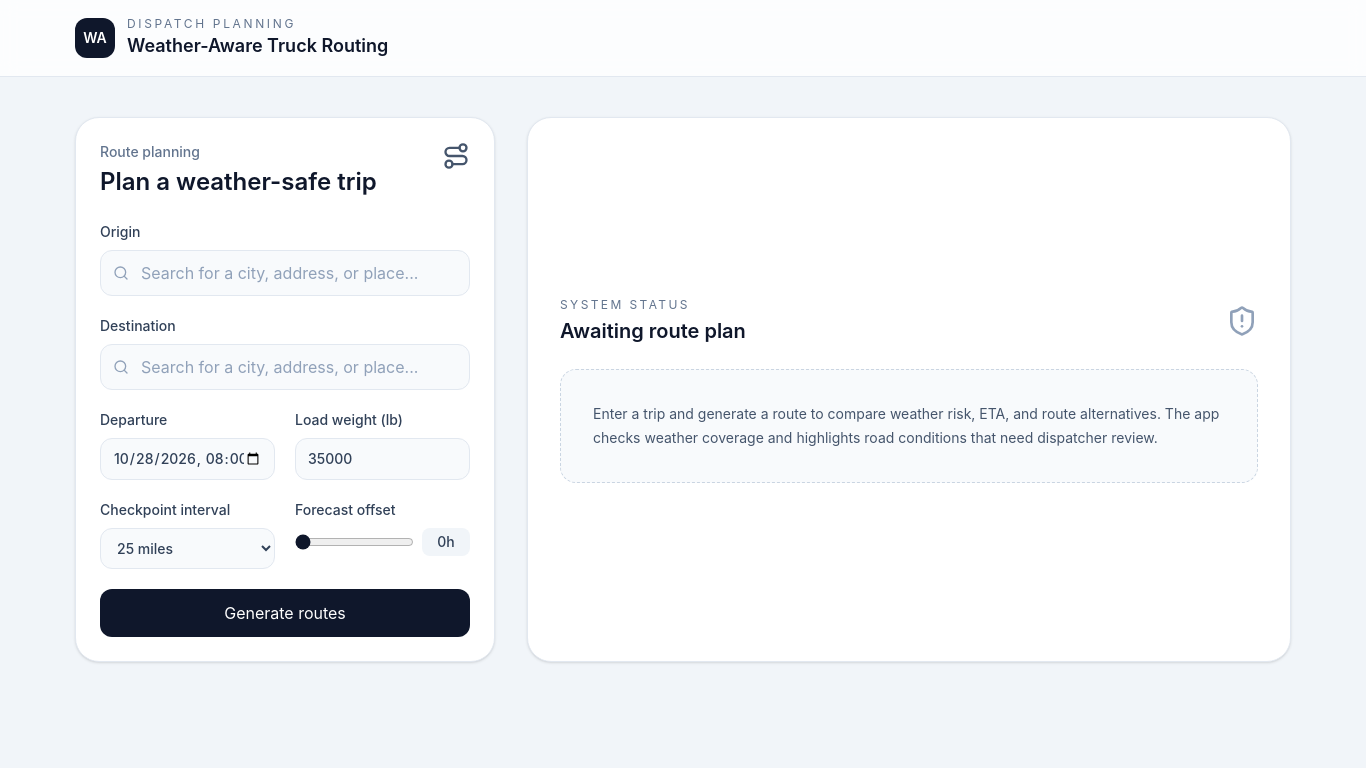
Scenario: App › requires a new suggestion after the selected location text is edited
Type "Dallas" into the dropdown labelled "Origin" at (285, 273), box [101,251,469,295]
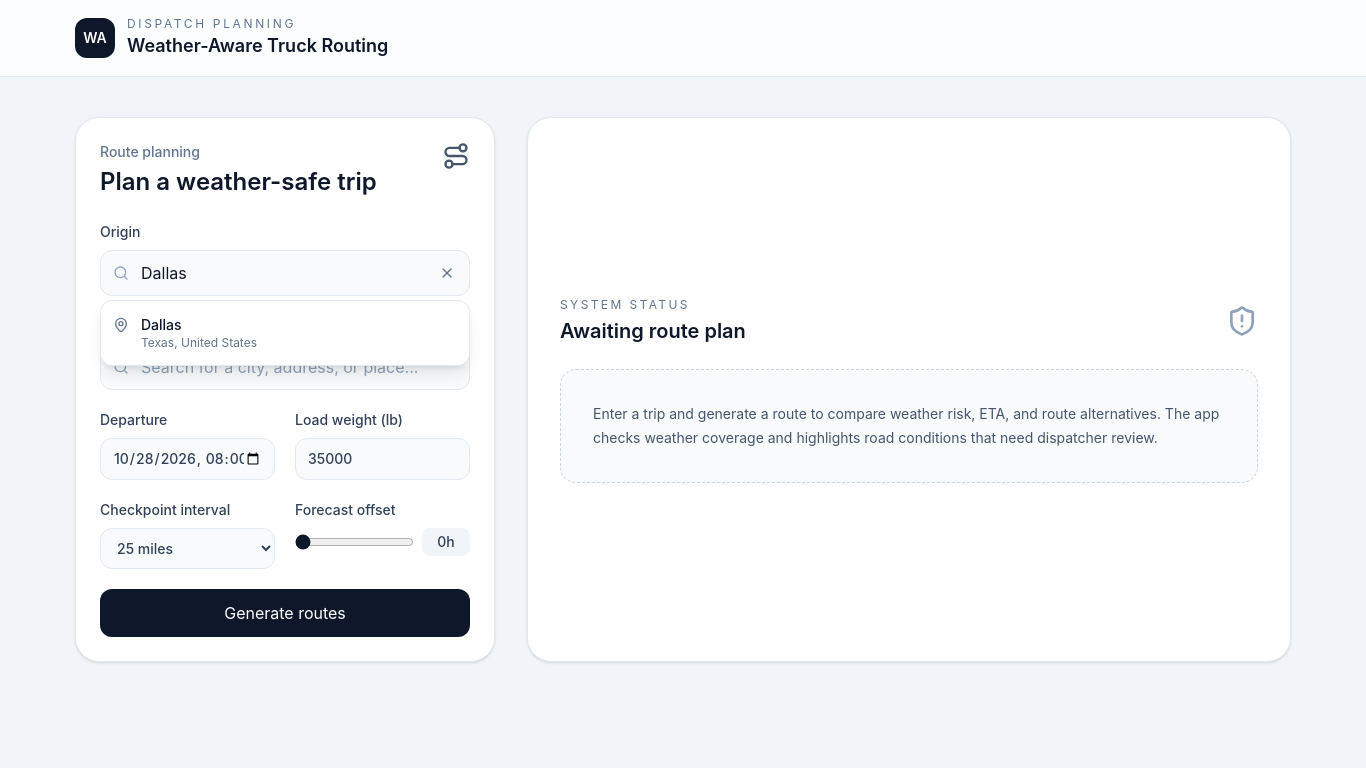
Click the option "Dallas Texas, United States" at (185, 333), box [113,316,257,350]
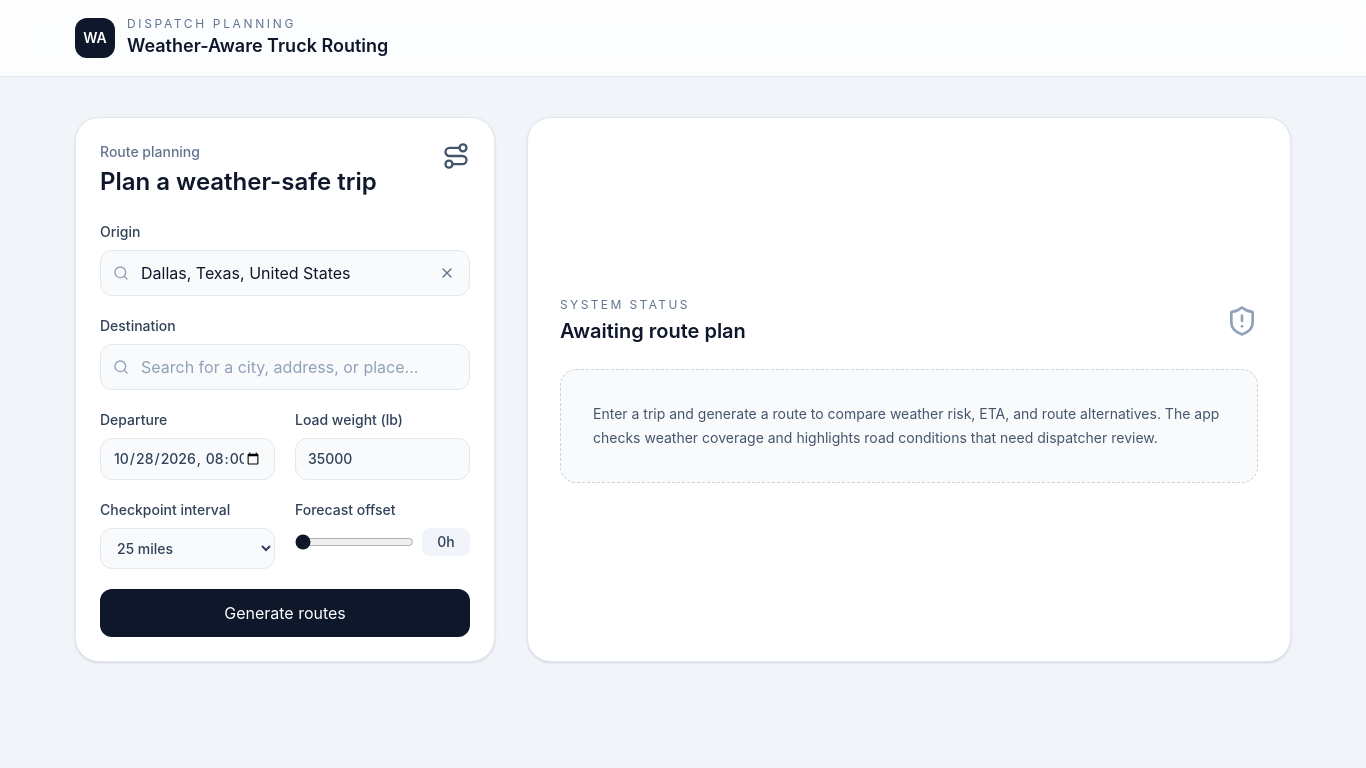
Replace the text in the dropdown labelled "Origin" with "Dallas edited" at (285, 273), box [101,251,469,295]
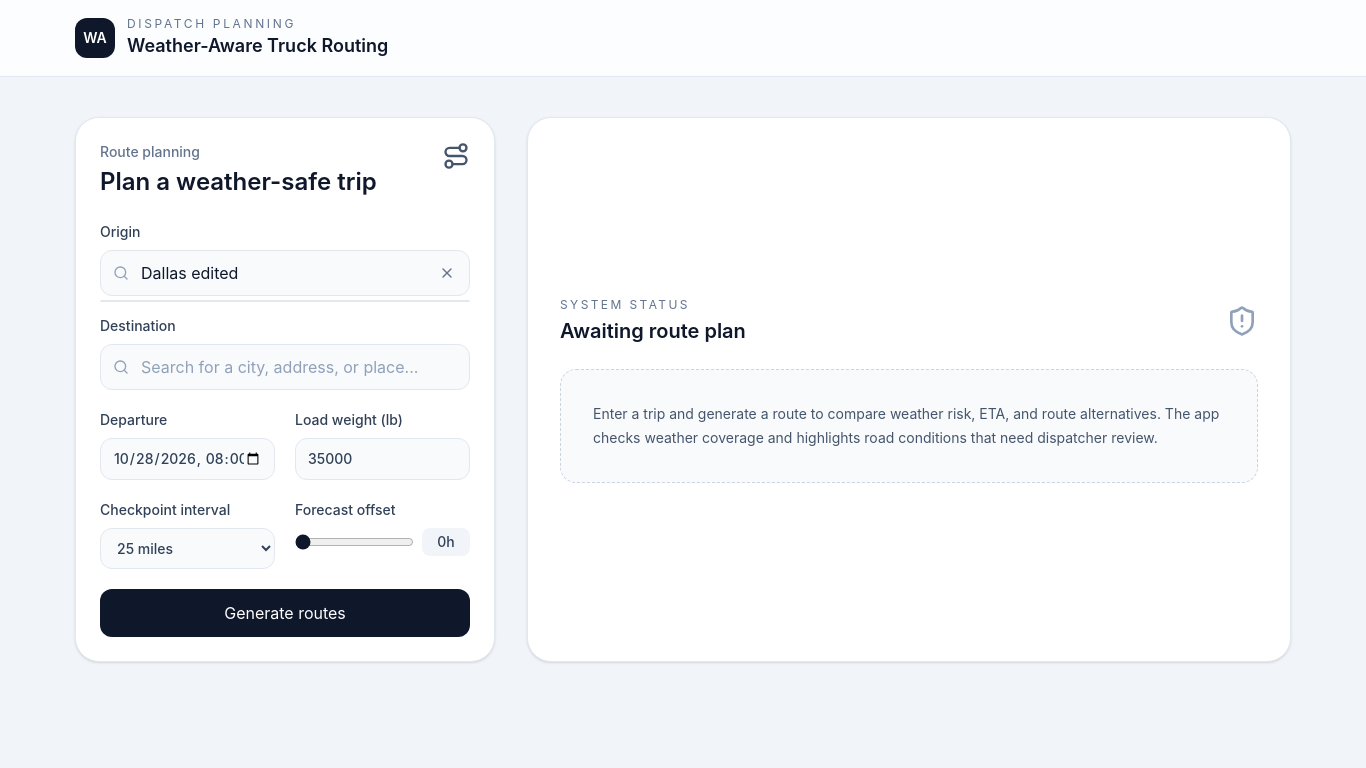
Click the button "Generate routes" at (285, 613), box [100,589,470,637]
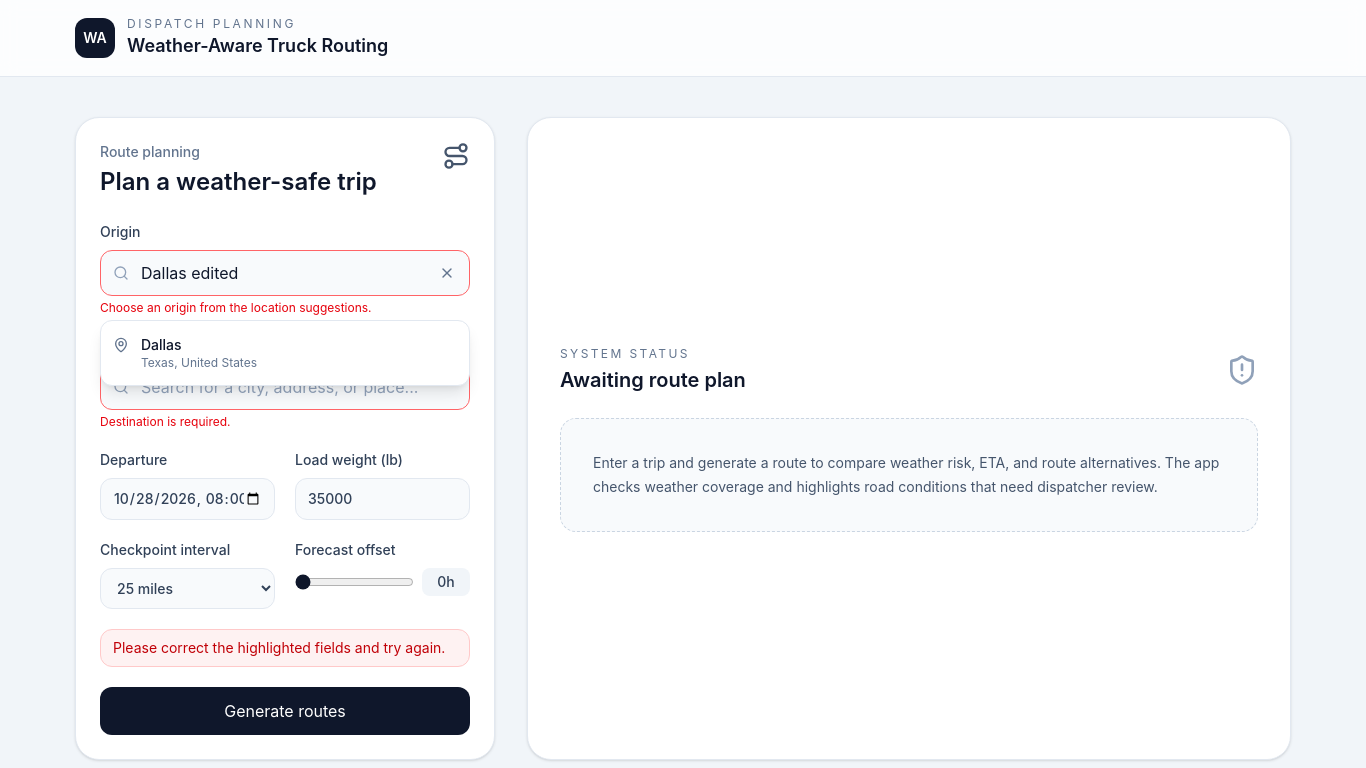
Expected: the text "Choose an origin from the location suggestions." is shown, [100,300,372,315]
